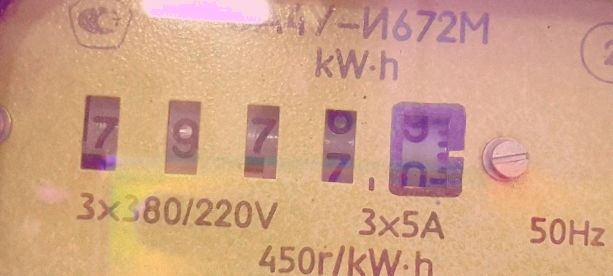0: (397, 155, 430, 194)
7: (87, 111, 119, 155), (246, 113, 278, 157), (322, 149, 353, 185)
9: (167, 114, 202, 161), (400, 107, 432, 144)
screen: (59, 71, 491, 220)
